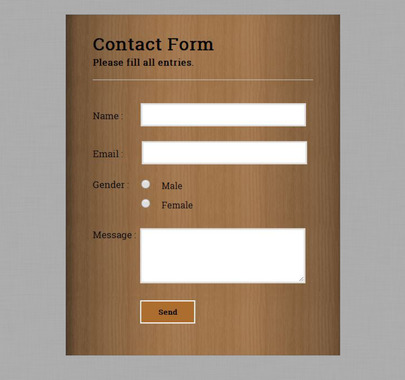_form_: (1, 1, 405, 380)
button: (139, 299, 195, 324)
field: (137, 226, 307, 284), (137, 101, 309, 128), (138, 139, 308, 165)
field_with_label: (92, 100, 311, 130), (93, 138, 310, 167)
radio: (140, 178, 153, 190), (141, 197, 151, 210)
radio_with_label: (92, 224, 309, 286), (139, 195, 194, 212), (94, 176, 156, 191), (138, 176, 182, 191)
